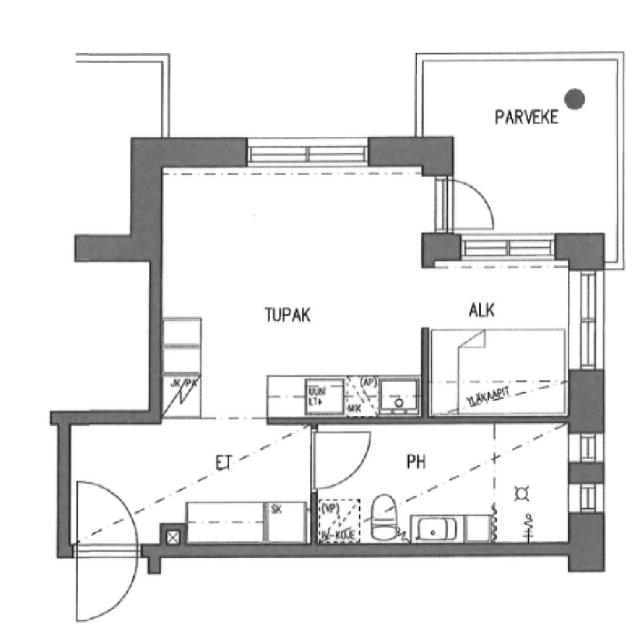door: (68, 476, 140, 626), (306, 426, 370, 491), (442, 171, 502, 237)
window: (238, 135, 379, 174), (563, 262, 609, 381), (452, 228, 567, 269), (440, 249, 560, 273), (424, 164, 459, 240), (575, 480, 599, 511), (580, 432, 596, 462)
zone: (159, 164, 428, 423), (300, 419, 569, 548), (64, 418, 314, 542), (427, 261, 581, 423), (378, 378, 422, 416)
